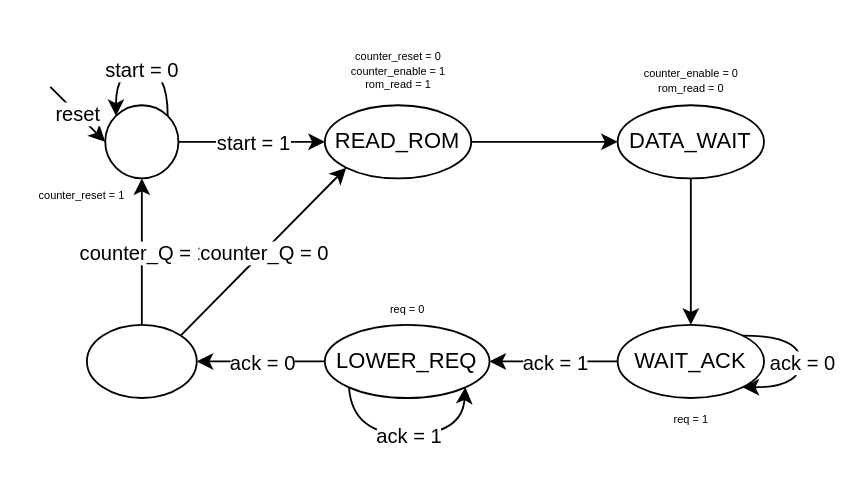
This 866x478 diagram has some shape labels left out. Here are the shapes that lost their labels. From the top down, the centre of each, then its label:
At pixel 140 140: "IDLE".
At pixel 141 360: "CHECK".
